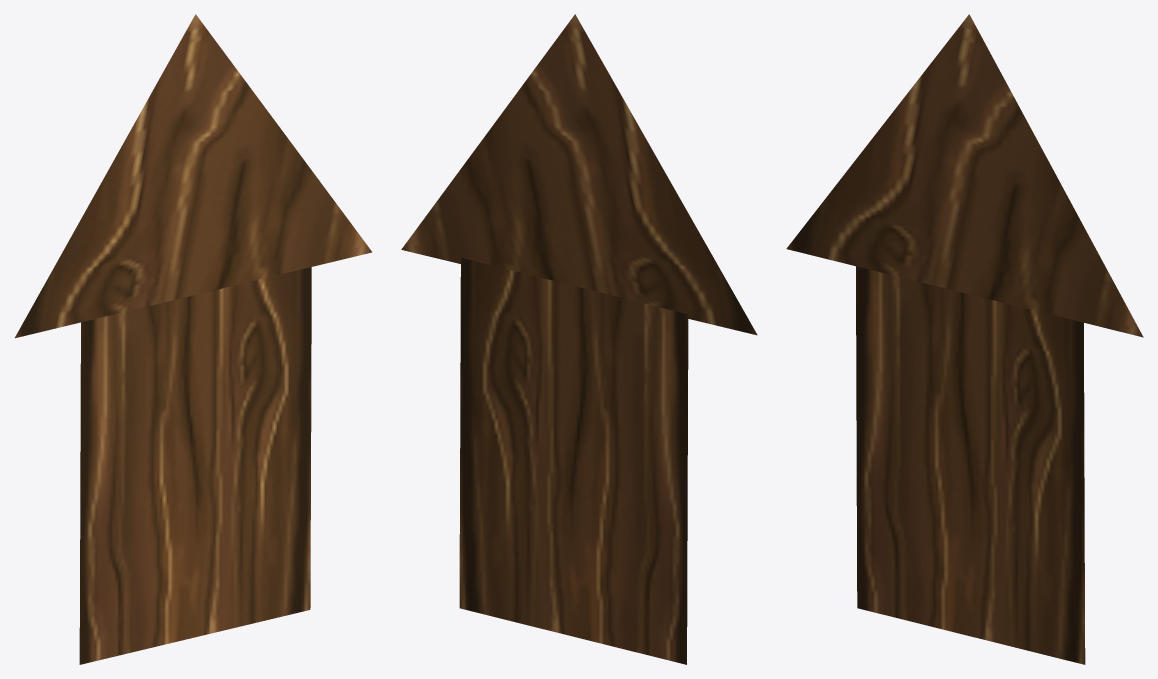
Rendered from Arrow.fbx.
The picture shows the model from 3 angles, left to right: view 1: azimuth 30°, elevation 25°; view 2: azimuth 150°, elevation 25°; view 3: azimuth 330°, elevation 25°; orthographic projection.
Parts seen in each view (by area): view 1: Plane, Plane.001; view 2: Plane, Plane.001; view 3: Plane, Plane.001.
Boxes of the visible parts, x1,y1,x2,y2 form: Plane: [79, 267, 311, 664]; Plane.001: [15, 14, 371, 338]; Plane: [459, 258, 688, 664]; Plane.001: [401, 14, 757, 335]; Plane: [856, 266, 1085, 664]; Plane.001: [786, 14, 1143, 337].
Bounding box in the file's own units: 64.43 × 107 × 0.911.
